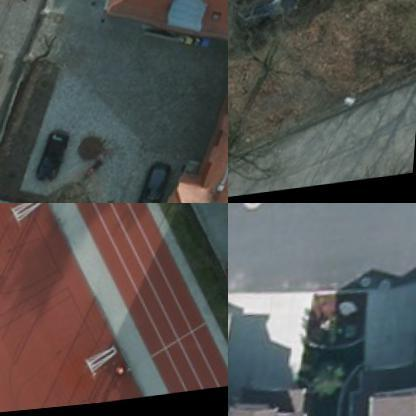car: (34, 128, 70, 189), (242, 0, 301, 35), (136, 165, 168, 202)
